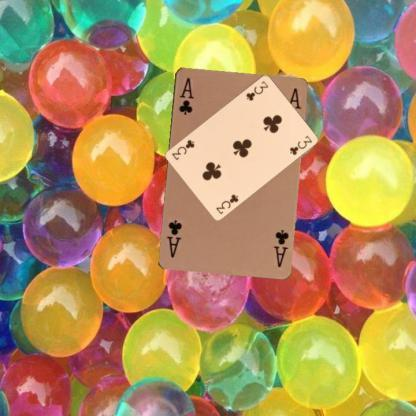3c: (243, 78, 270, 102), (213, 191, 240, 215)
Ac: (176, 74, 195, 116), (271, 226, 289, 269)
